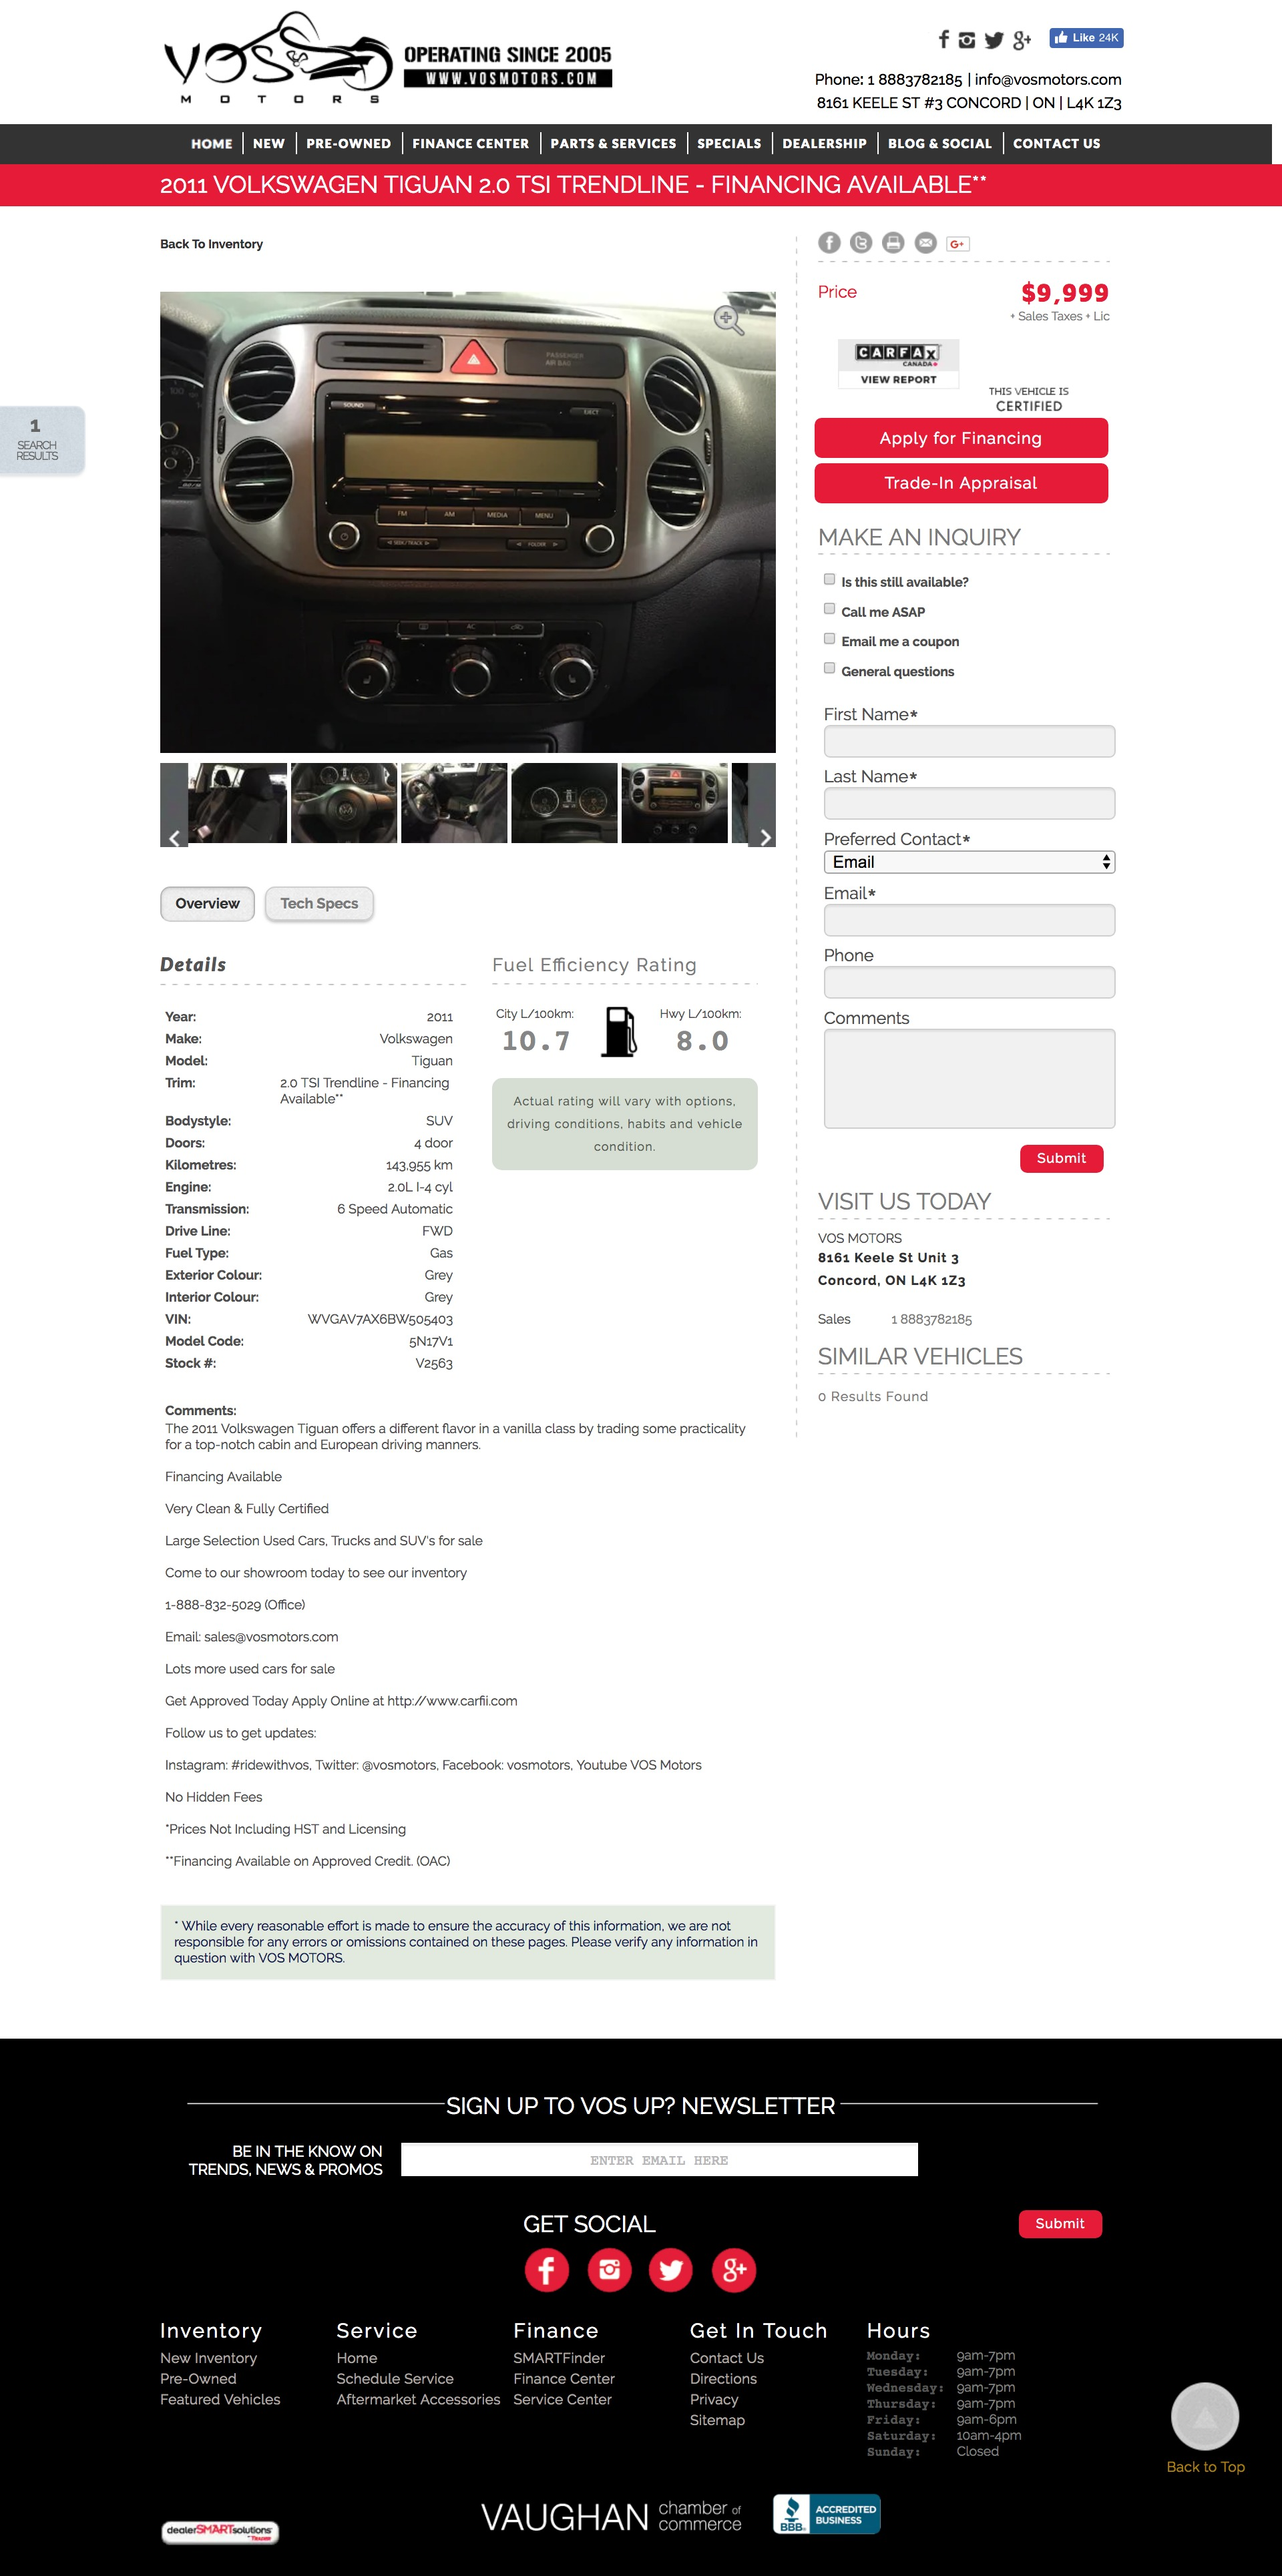car: (746, 762, 777, 851)
